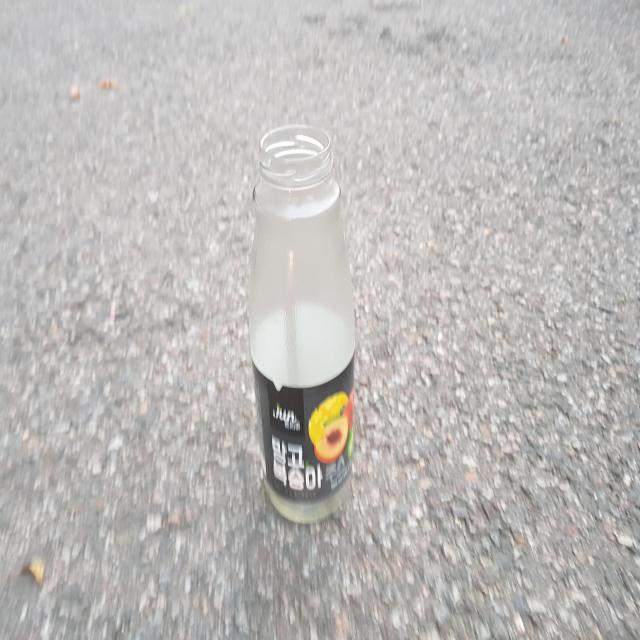glass: (249, 125, 355, 523)
